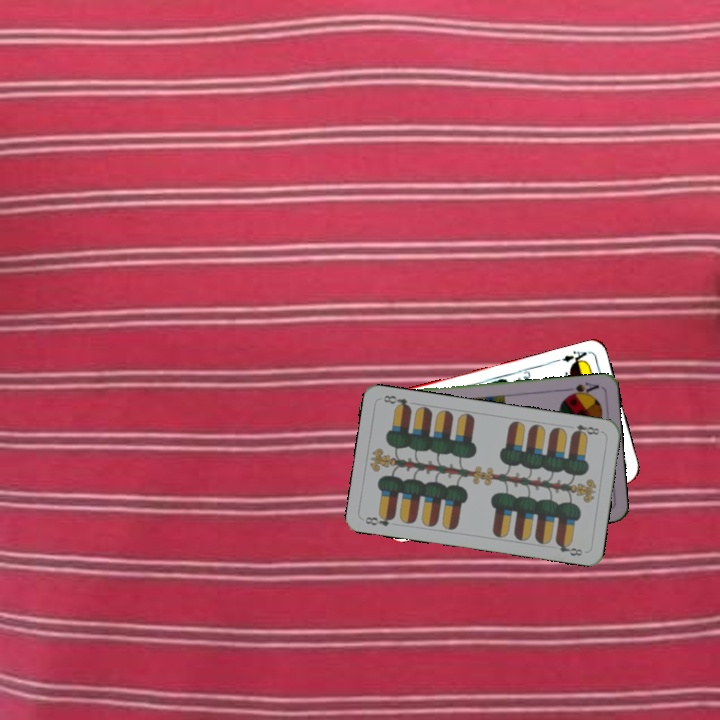E8: (361, 510, 398, 529), (568, 420, 602, 439)
EA: (552, 347, 589, 368)
SA: (562, 378, 601, 399)
